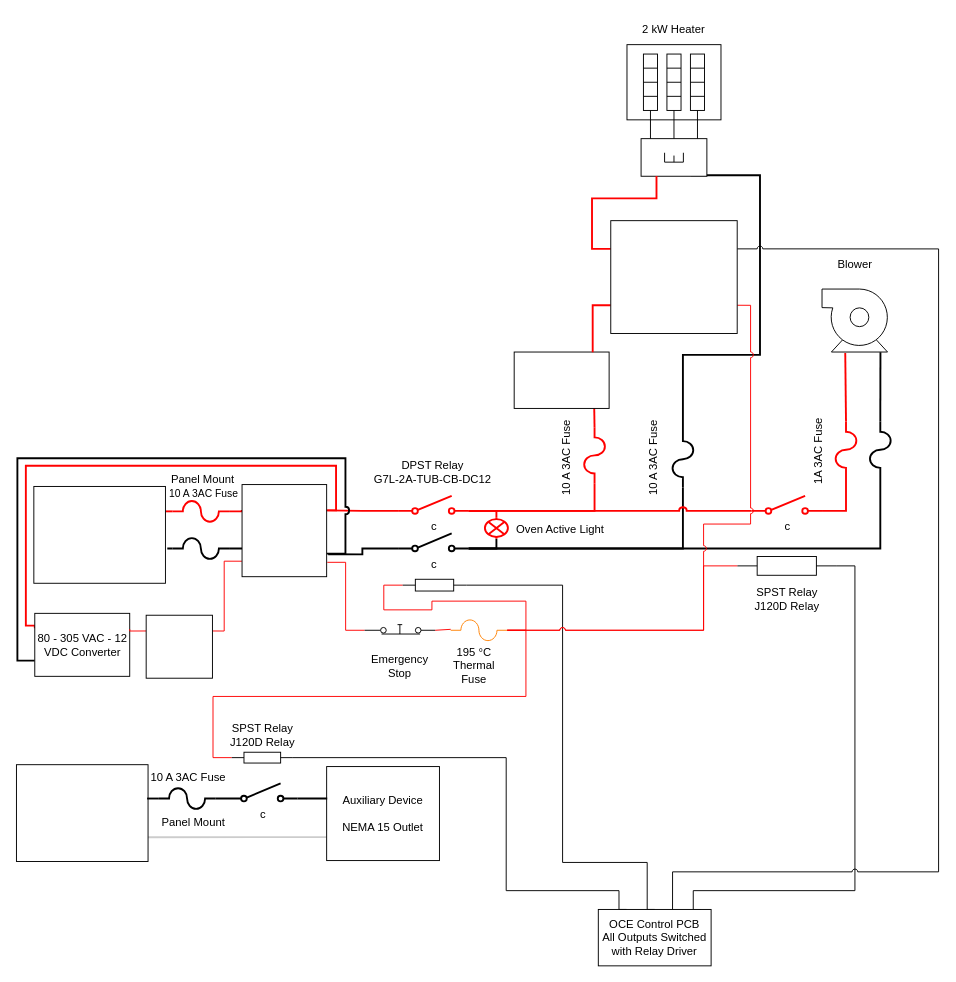
Image size: 956x982. Some labels were removed from this diagram. The shapes that lost their labels are listed below. From the top down, each one's box as (x1, y1, x2, y2) in pixels, then its label:
(610, 220, 737, 334): 1 2 Fotek 25DA SSR 380 V, 25A 3 4
(513, 351, 609, 408): Dwyer Pressure Switch
(33, 486, 165, 583): 240 V, 30 A Outlet X - Red Y - Black N - White G - Green
(241, 484, 327, 577): Door Cuttoff Switch McMaster 7277K27 3PST NO
(145, 614, 212, 678): OCE PCB Interlock Loop
(16, 764, 148, 862): 120 V C15 Power Inlet 10 A L - Black N - White G - Green
